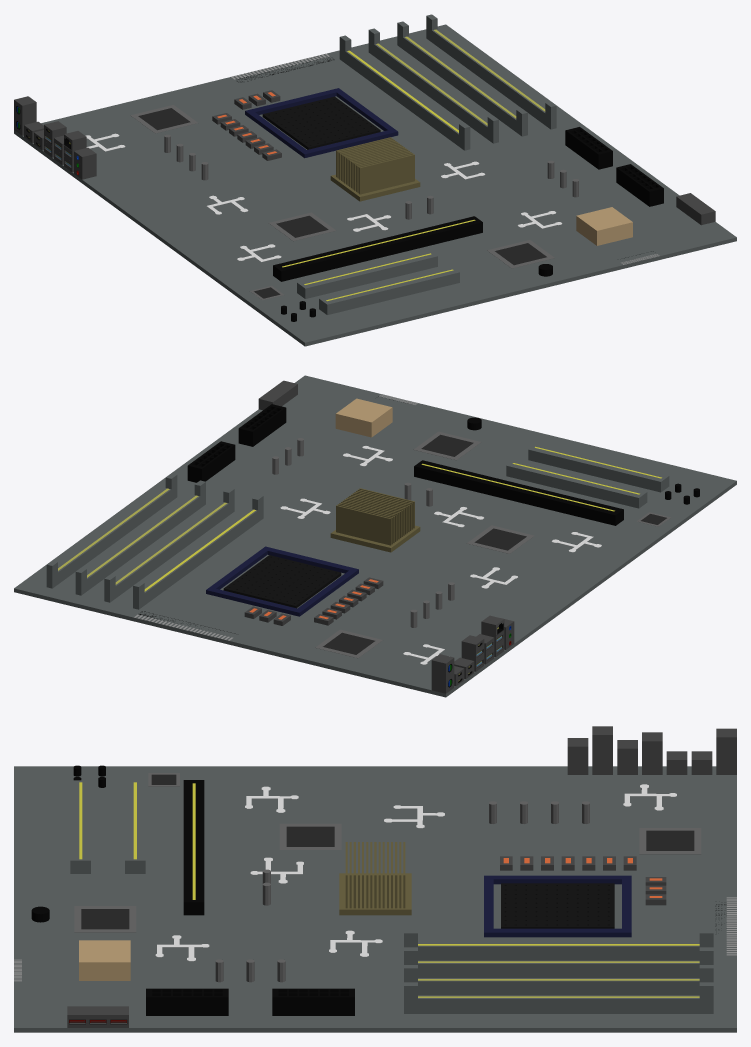
The model's file is Motherboard.glb.
3 views of the same model, one above another, from view 1: azimuth 30°, elevation 25°; view 2: azimuth 150°, elevation 25°; view 3: azimuth 270°, elevation 25° (orthographic). The views are drawn at different scales.
Parts seen in each view (by area): view 1: motherboard, Cube.039, Cube.007, CPU slot, Cube.009, Cube.008, Cube.002, Cube.004, CPU slot.001, Cube.003, Cube.001, Cube (+5 smaller); view 2: motherboard, Cube.039, Cube.007, CPU slot, Cube.009, Cube.008, Cube.004, CPU slot.001, Cube.002, Cube.001, Cube.003, Cube (+5 smaller); view 3: motherboard, Cube.004, Cube.002, Cube.001, Cube.003, CPU slot, Cube.039, CPU slot.001, Cube.007, slot 1, slot 1.001, Cube (+7 smaller).
Boxes of the visible parts, bbox=[...] form: motherboard: bbox=[14, 24, 736, 346]; Cube.039: bbox=[330, 137, 420, 201]; Cube.007: bbox=[273, 216, 482, 281]; CPU slot: bbox=[262, 96, 380, 149]; Cube.009: bbox=[319, 266, 459, 314]; Cube.008: bbox=[297, 250, 437, 298]; Cube.002: bbox=[339, 35, 470, 150]; Cube.004: bbox=[426, 14, 556, 129]; CPU slot.001: bbox=[245, 88, 398, 158]; Cube.003: bbox=[397, 21, 527, 136]; Cube.001: bbox=[368, 28, 498, 143]; Cube: bbox=[576, 207, 632, 245]; motherboard: bbox=[14, 375, 736, 697]; Cube.039: bbox=[330, 488, 420, 552]; Cube.007: bbox=[414, 460, 623, 525]; CPU slot: bbox=[223, 555, 341, 608]; Cube.009: bbox=[528, 443, 669, 492]; Cube.008: bbox=[506, 459, 647, 508]; Cube.004: bbox=[46, 473, 177, 588]; CPU slot.001: bbox=[206, 546, 358, 616]; Cube.002: bbox=[133, 494, 263, 609]; Cube.001: bbox=[104, 487, 234, 602]; Cube.003: bbox=[75, 480, 205, 595]; Cube: bbox=[335, 398, 392, 437]; motherboard: bbox=[14, 766, 736, 1032]; Cube.004: bbox=[404, 982, 713, 1013]; Cube.002: bbox=[404, 930, 713, 960]; Cube.001: bbox=[404, 947, 713, 977]; Cube.003: bbox=[404, 965, 713, 995]; CPU slot: bbox=[501, 883, 614, 928]; Cube.039: bbox=[339, 842, 411, 915]; CPU slot.001: bbox=[484, 875, 631, 937]; Cube.007: bbox=[183, 780, 204, 915]; slot 1: bbox=[272, 988, 354, 1015]; slot 1.001: bbox=[146, 988, 228, 1015]; Cube: bbox=[79, 940, 130, 980].
Bounding box in the file's own units: 3 × 0.2384 × 3.5.
